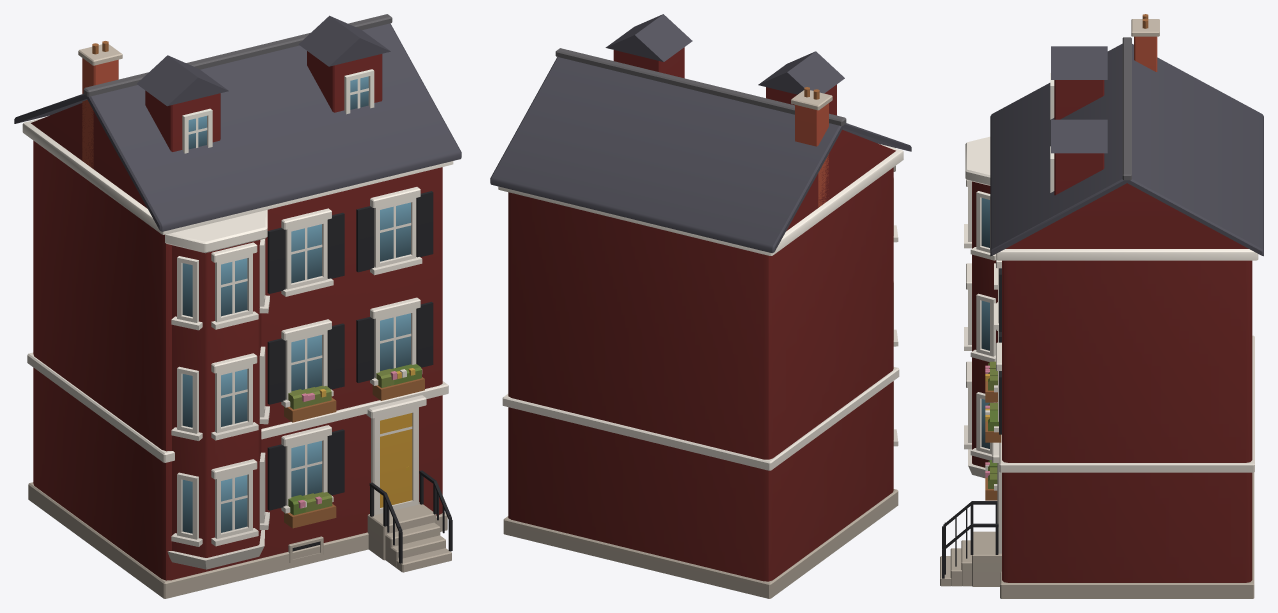
The model's file is lane_w4.glb.
The picture shows the model from 3 angles, left to right: view 1: azimuth 30°, elevation 25°; view 2: azimuth 150°, elevation 25°; view 3: azimuth 270°, elevation 25°; orthographic projection. The views are drawn at different scales.
Parts seen in each view (by area): view 1: lane_w4; view 2: lane_w4; view 3: lane_w4.
Part boxes in pixels (left/top/right/bottom): lane_w4: left=14, top=14, right=461, bottom=598; lane_w4: left=490, top=14, right=911, bottom=598; lane_w4: left=940, top=14, right=1263, bottom=598.
Bounding box in the file's own units: 9.8 × 15.19 × 9.71.
1 material, 1 textured.
